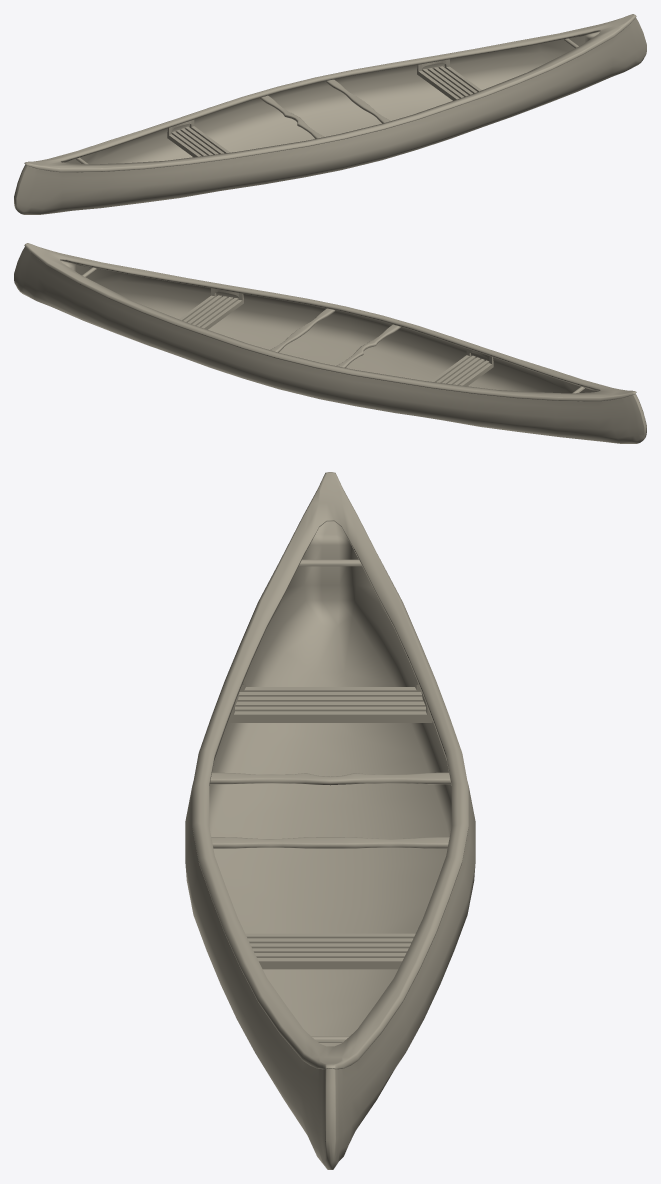
Rendered from CanoeStripped.fbx.
3 views of the same model, one above another, from view 1: azimuth 30°, elevation 25°; view 2: azimuth 150°, elevation 25°; view 3: azimuth 270°, elevation 25° (orthographic). The views are drawn at different scales.
Parts seen in each view (by area): view 1: CANOE; view 2: CANOE; view 3: CANOE.
Boxes of the visible parts, box(x1,y1,x2,y2) form: CANOE: box(14, 14, 646, 214); CANOE: box(14, 243, 646, 443); CANOE: box(185, 472, 475, 1169).
Size of the model in its own units: 3.96 by 0.3843 by 0.7877.
